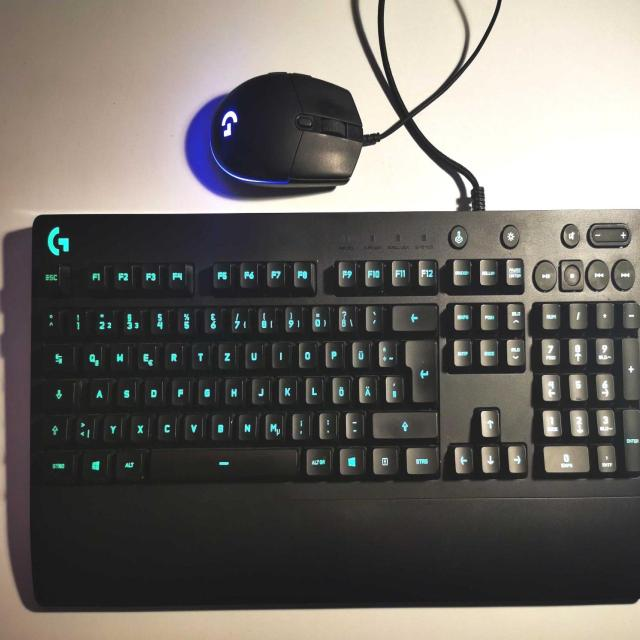0: (309, 301, 328, 332)
1: (65, 305, 88, 337)
2: (91, 304, 115, 338)
3: (120, 304, 142, 337)
4: (149, 304, 170, 335)
5: (175, 304, 196, 335)
6: (202, 303, 222, 333)
7: (229, 302, 249, 333)
8: (256, 302, 276, 334)
9: (283, 302, 303, 332)
a: (88, 376, 108, 407)
accent: (363, 302, 381, 329)
ae: (357, 372, 376, 401)
alt-left: (114, 447, 143, 479)
altgr-right: (303, 445, 331, 474)
b: (209, 410, 229, 439)
c: (155, 411, 176, 440)
caret: (40, 304, 59, 335)
comma: (290, 410, 309, 438)
d: (142, 375, 163, 405)
del: (390, 301, 437, 330)
e: (136, 340, 157, 371)
enter: (402, 337, 436, 401)
f: (169, 375, 189, 405)
g: (196, 375, 215, 404)
h: (223, 374, 243, 404)
hash: (383, 372, 402, 401)
i: (270, 338, 290, 367)
j: (250, 373, 270, 403)
k: (276, 373, 297, 403)
keyboard: (22, 209, 640, 500)
l: (303, 373, 323, 402)
less: (73, 411, 93, 443)
m: (263, 410, 283, 439)
minus: (343, 409, 363, 436)
n: (236, 410, 256, 438)
o: (296, 338, 317, 367)
oe: (330, 373, 350, 402)
p: (323, 338, 343, 366)
plus: (376, 337, 395, 366)
point: (317, 409, 336, 437)
q: (80, 340, 102, 372)
r: (162, 339, 182, 370)
s: (115, 375, 136, 406)
shift-left: (38, 414, 66, 444)
shift-lock: (36, 378, 76, 410)
shift-right: (370, 409, 437, 437)
space: (147, 445, 297, 480)
ss: (336, 302, 355, 331)
strg-left: (35, 448, 74, 481)
strg-right: (404, 444, 438, 473)
t: (189, 340, 209, 368)
tab: (39, 342, 74, 373)
u: (243, 339, 263, 368)
ue: (350, 338, 369, 367)
v: (182, 410, 202, 438)
w: (108, 340, 129, 371)
x: (129, 411, 149, 441)
y: (101, 410, 122, 442)
z: (216, 339, 236, 367)
